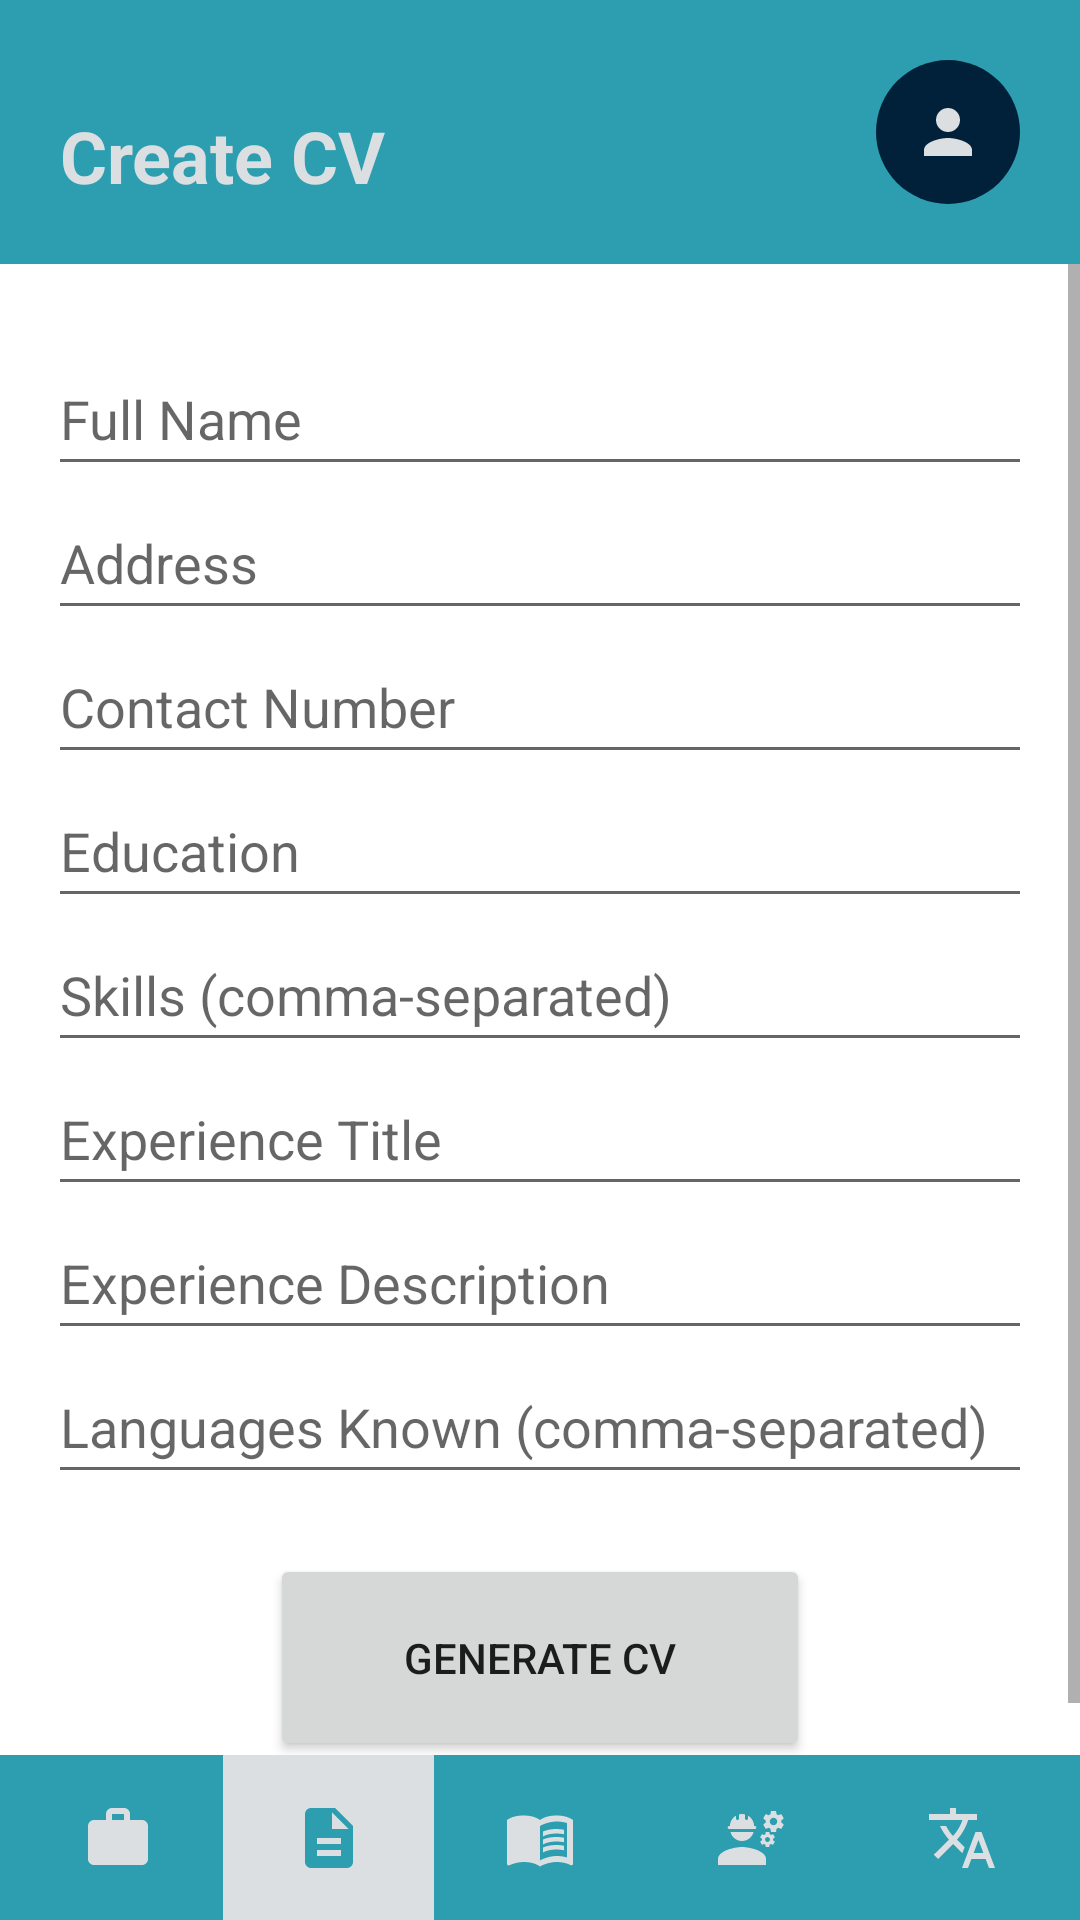

Where to tap for icons on this 1080×1920 app screen, as [x,y]:
Career Guidelines: [540,1841]
Job Preparation: [118,1836]
Language Learning: [962,1838]
Profile: [948,132]
Skill Development: [751,1838]
